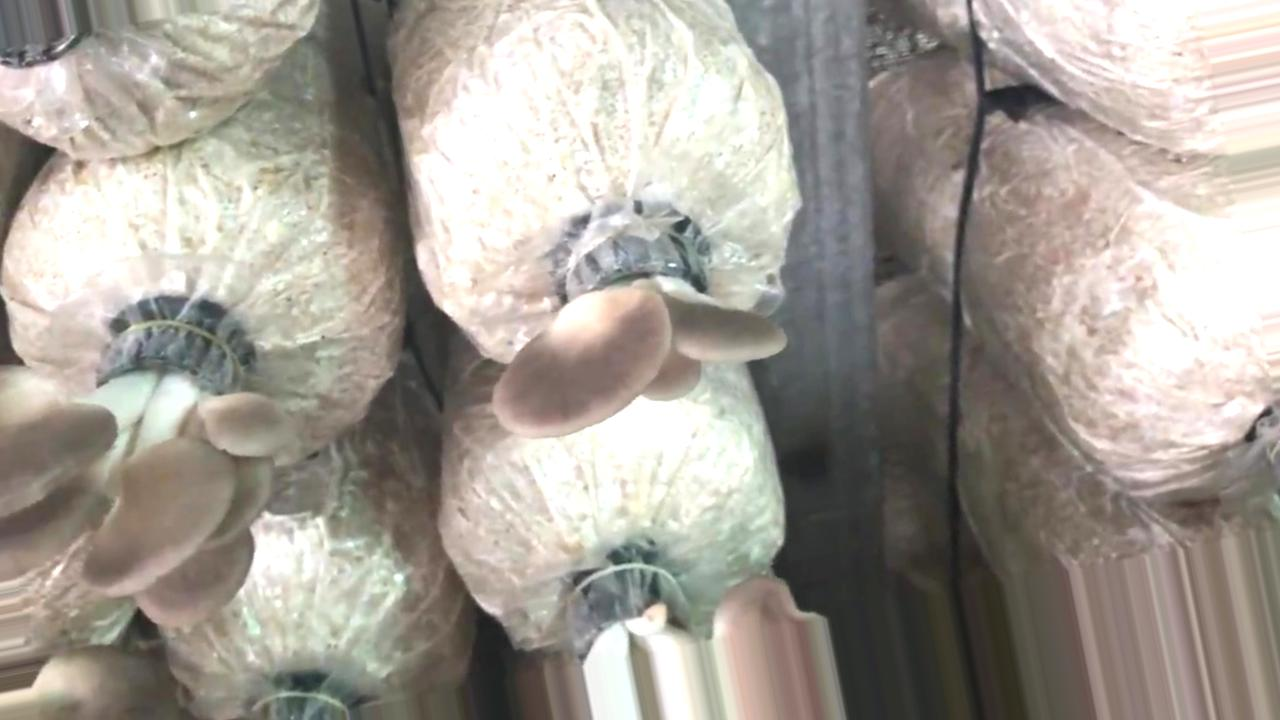nam: (1, 317, 280, 625), (499, 213, 784, 438)
